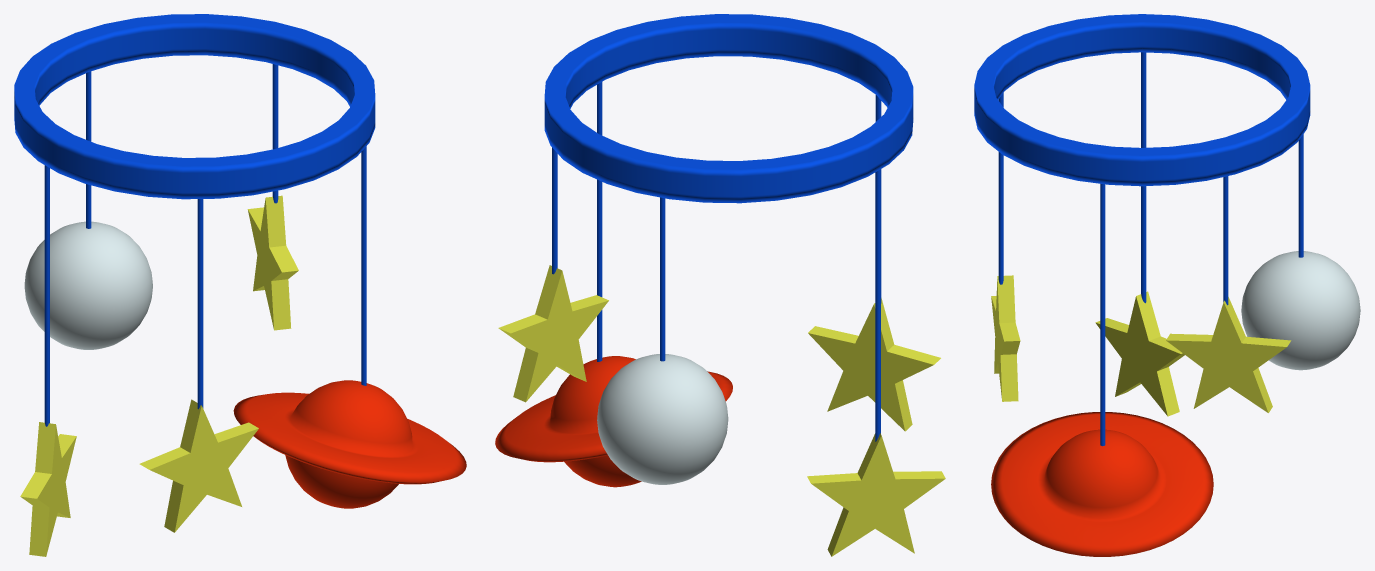
File: Dial.fbx
3 views of the same model, side by side, from view 1: azimuth 30°, elevation 25°; view 2: azimuth 150°, elevation 25°; view 3: azimuth 270°, elevation 25° (orthographic). The views are drawn at different scales.
Visible parts, largest first — view 1: Cylinder, Sphere.001, Sphere, Circle.001, Circle.003, Circle.002, Cylinder.006, Cylinder.007, Cylinder.005, Sphere.002, Cylinder.004; view 2: Cylinder, Sphere, Sphere.001, Circle.003, Circle.001, Circle.002, Cylinder.006, Cylinder.005, Sphere.002, Cylinder.004; view 3: Cylinder, Sphere.001, Sphere, Circle.002, Circle.003, Circle.001, Cylinder.005, Cylinder.006, Cylinder.007, Cylinder.004, Sphere.002.
Boxes of the visible parts, x1=… form: Cylinder: x1=14, y1=14, x2=375, y2=199; Sphere.001: x1=233, y1=380, x2=466, y2=508; Sphere: x1=24, y1=221, x2=152, y2=349; Circle.001: x1=139, y1=399, x2=258, y2=532; Circle.003: x1=20, y1=422, x2=76, y2=556; Circle.002: x1=247, y1=195, x2=298, y2=330; Cylinder.006: x1=44, y1=165, x2=49, y2=426; Cylinder.007: x1=197, y1=199, x2=203, y2=409; Cylinder.005: x1=361, y1=146, x2=366, y2=385; Sphere.002: x1=86, y1=71, x2=91, y2=228; Cylinder.004: x1=272, y1=64, x2=278, y2=203; Cylinder: x1=544, y1=14, x2=913, y2=203; Sphere: x1=597, y1=354, x2=728, y2=484; Sphere.001: x1=495, y1=356, x2=732, y2=487; Circle.003: x1=807, y1=433, x2=945, y2=556; Circle.001: x1=808, y1=298, x2=940, y2=431; Circle.002: x1=498, y1=265, x2=608, y2=402; Cylinder.006: x1=875, y1=169, x2=880, y2=441; Cylinder.005: x1=597, y1=82, x2=602, y2=361; Sphere.002: x1=660, y1=197, x2=665, y2=361; Cylinder.004: x1=552, y1=147, x2=557, y2=274; Cylinder: x1=974, y1=14, x2=1310, y2=186; Sphere.001: x1=991, y1=412, x2=1213, y2=556; Sphere: x1=1241, y1=251, x2=1360, y2=370; Circle.002: x1=1166, y1=297, x2=1291, y2=412; Circle.003: x1=1095, y1=291, x2=1184, y2=416; Circle.001: x1=991, y1=275, x2=1020, y2=401; Cylinder.005: x1=1100, y1=183, x2=1105, y2=446; Cylinder.006: x1=1141, y1=52, x2=1146, y2=303; Cylinder.007: x1=998, y1=93, x2=1003, y2=284; Cylinder.004: x1=1223, y1=176, x2=1228, y2=305; Sphere.002: x1=1298, y1=134, x2=1303, y2=257.
Size of the model in its own units: 273 by 262 by 230.
